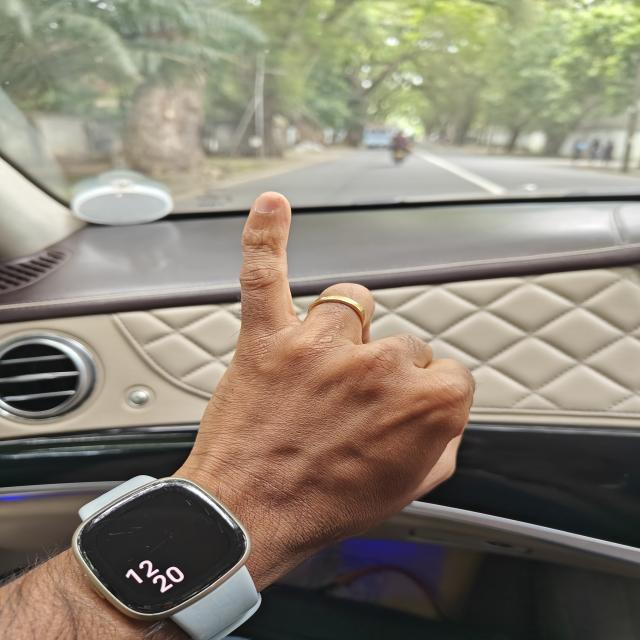pinky: (221, 179, 314, 346)
